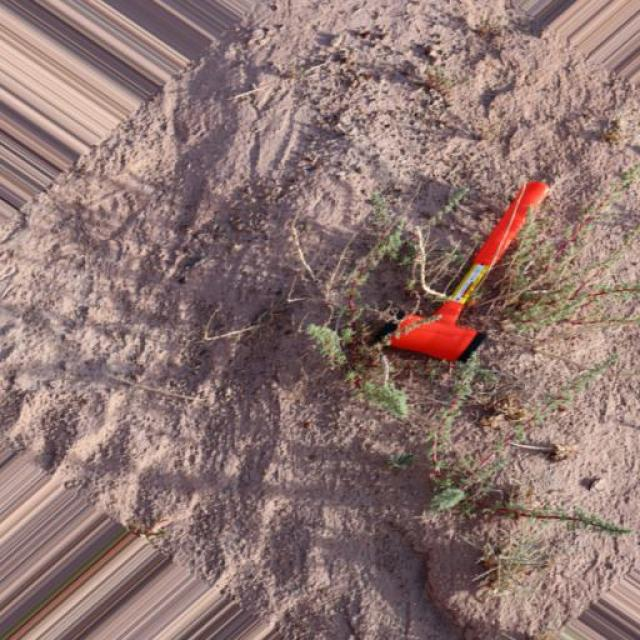mallet: (379, 178, 550, 364)
